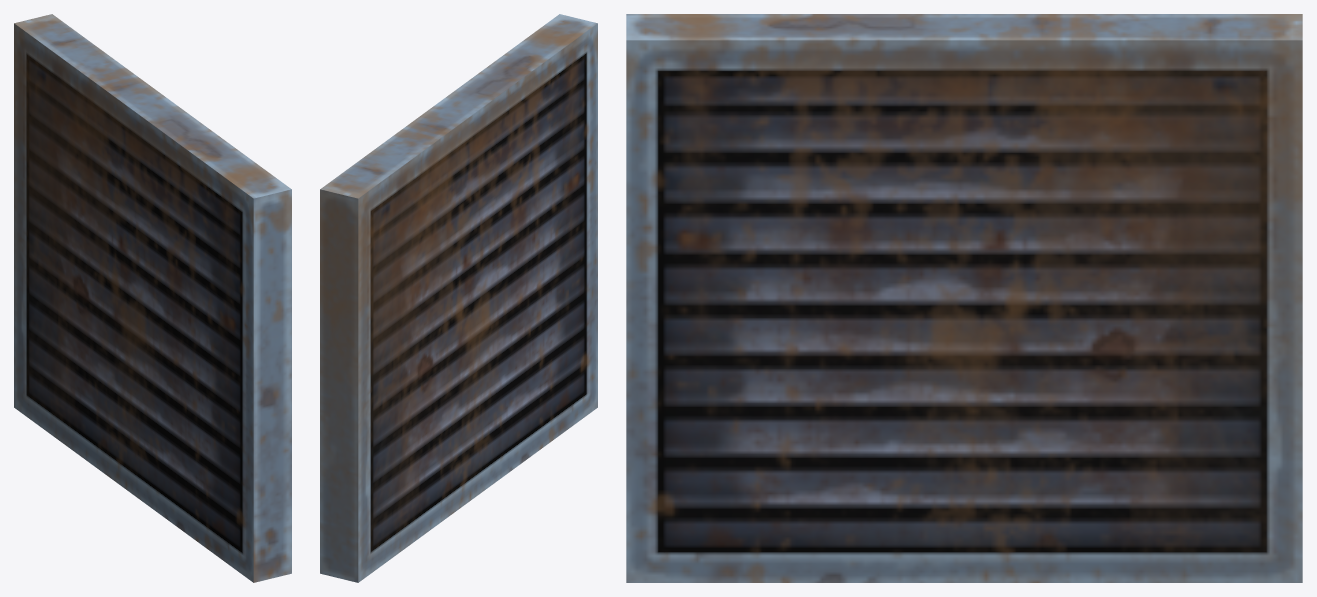
Rendered from airDuct01_cap.fbx.
3 renders of one model, left to right at view 1: azimuth 30°, elevation 25°; view 2: azimuth 150°, elevation 25°; view 3: azimuth 270°, elevation 25°, orthographic. The views are drawn at different scales.
Visible parts, largest first — view 1: airDuct01_cap; view 2: airDuct01_cap; view 3: airDuct01_cap.
Part boxes in pixels (left/top/right/bottom): airDuct01_cap: left=14, top=14, right=291, bottom=582; airDuct01_cap: left=320, top=14, right=597, bottom=582; airDuct01_cap: left=626, top=14, right=1302, bottom=582.
Size of the model in its own units: 8 by 77.07 by 87.07.
